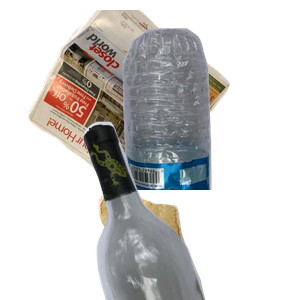glass: (81, 120, 300, 300)
paper: (23, 10, 245, 190)
plastic: (111, 26, 300, 206)
trash: (96, 181, 277, 300)
